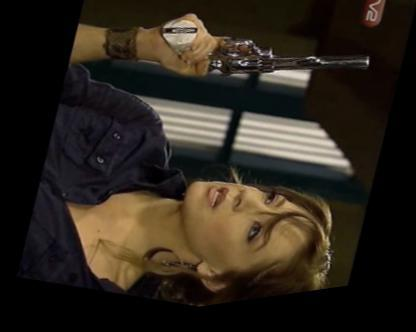pistol: (149, 0, 378, 130)
